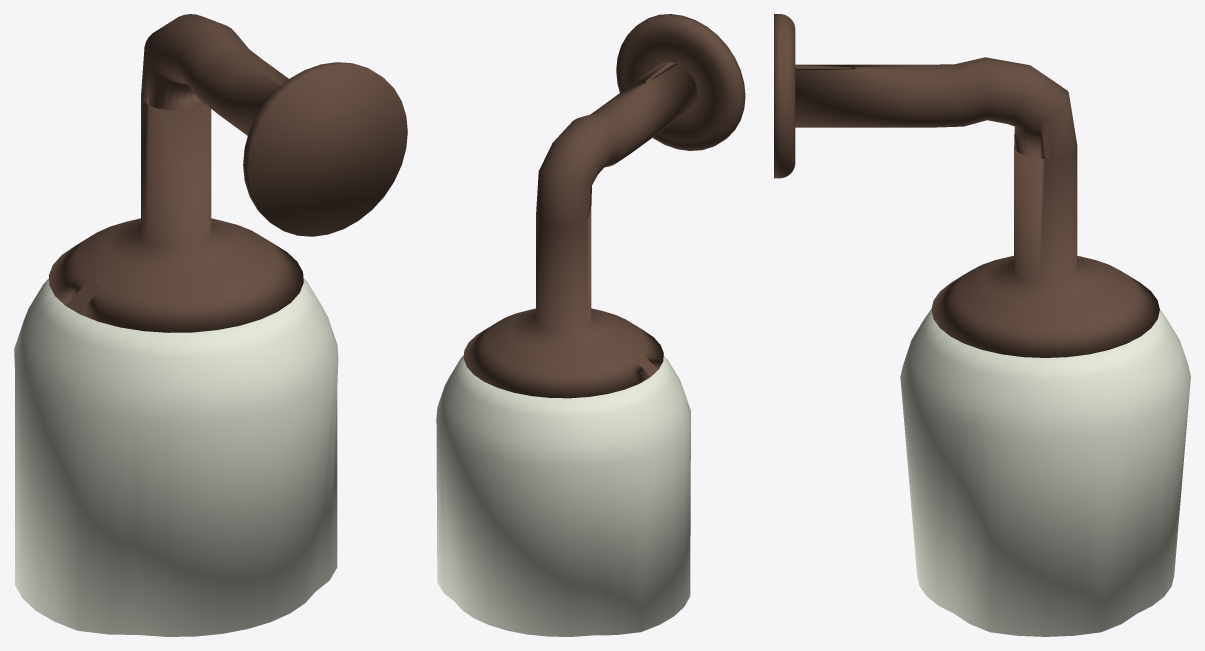
Rendered from InsideWallLampOn.fbx.
3 renders of one model, left to right at view 1: azimuth 30°, elevation 25°; view 2: azimuth 150°, elevation 25°; view 3: azimuth 270°, elevation 25°, orthographic. The views are drawn at different scales.
Visible parts, largest first — view 1: Sphere.007, Sphere.005; view 2: Sphere.007, Sphere.005; view 3: Sphere.007, Sphere.005.
Part boxes in pixels (x1=…): Sphere.007: x1=14, y1=278, x2=338, y2=636; Sphere.005: x1=48, y1=14, x2=407, y2=332; Sphere.007: x1=436, y1=355, x2=690, y2=636; Sphere.005: x1=463, y1=14, x2=745, y2=398; Sphere.007: x1=900, y1=309, x2=1190, y2=636; Sphere.005: x1=774, y1=14, x2=1159, y2=357.
Bounding box in the file's own units: 29.12 × 61.35 × 41.78.
